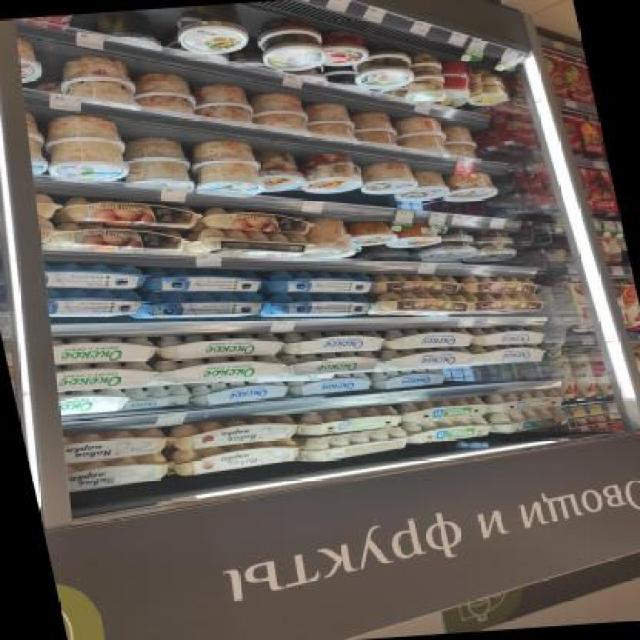Egg: (172, 439, 302, 478), (126, 288, 266, 324), (165, 3, 258, 57), (168, 415, 300, 450), (61, 454, 176, 494), (152, 329, 286, 362), (151, 353, 289, 385), (140, 267, 269, 299), (55, 53, 138, 102), (40, 258, 152, 294), (252, 266, 374, 299), (61, 428, 173, 463), (259, 288, 372, 322), (49, 333, 160, 367), (47, 140, 130, 185), (294, 405, 403, 438), (44, 288, 148, 322), (50, 360, 158, 392), (280, 327, 388, 358), (293, 152, 367, 196), (190, 160, 267, 200), (344, 54, 421, 94), (369, 290, 471, 320), (253, 35, 330, 74), (131, 71, 197, 115), (191, 379, 292, 407), (374, 345, 474, 373), (121, 157, 196, 194), (367, 270, 462, 299), (276, 351, 380, 377), (382, 325, 478, 353), (192, 82, 254, 125), (297, 217, 355, 260), (250, 91, 308, 134), (403, 416, 492, 444), (248, 150, 304, 193), (466, 290, 551, 318), (489, 407, 573, 435), (398, 397, 488, 423), (285, 372, 373, 397), (185, 137, 258, 166), (396, 117, 450, 155), (304, 102, 358, 140), (483, 389, 568, 413), (120, 384, 195, 411), (461, 273, 542, 298), (118, 136, 190, 164), (318, 30, 371, 68), (350, 110, 404, 147), (470, 342, 547, 367), (468, 324, 547, 348), (360, 162, 417, 195), (56, 389, 120, 416), (369, 368, 446, 390), (443, 172, 499, 202), (396, 171, 452, 201), (440, 125, 484, 162), (344, 222, 398, 248), (416, 240, 476, 262), (390, 225, 442, 249), (468, 242, 520, 264)
